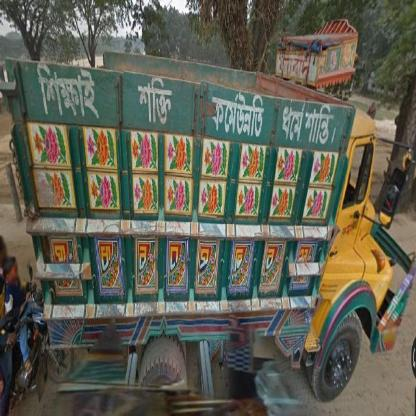truck: (6, 24, 410, 398)
